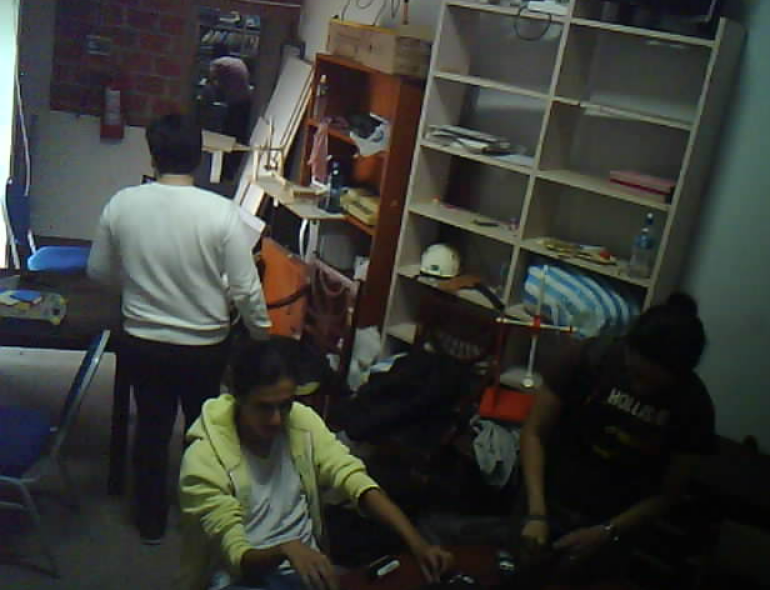person: (88, 94, 277, 559), (487, 242, 732, 575), (162, 328, 466, 590), (193, 32, 281, 160)
